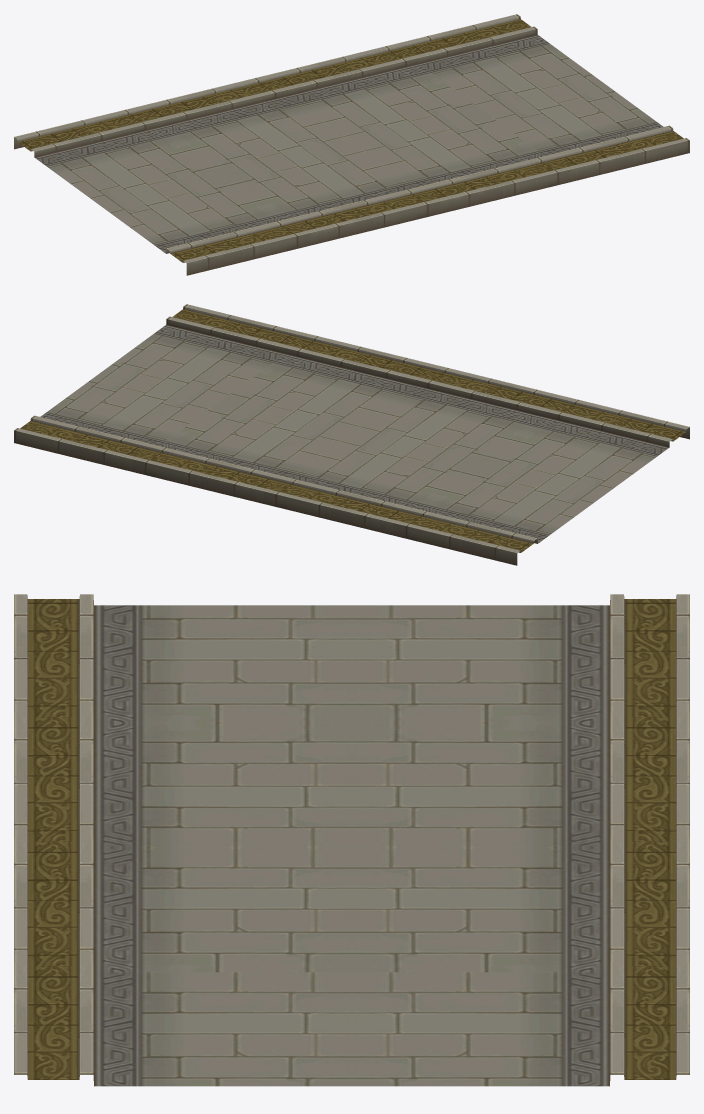
The model's file is Item_3001_wujian002_diban02.FBX.
The picture shows the model from 3 angles, top to bottom: view 1: azimuth 30°, elevation 25°; view 2: azimuth 150°, elevation 25°; view 3: azimuth 270°, elevation 25°; orthographic projection. The views are drawn at different scales.
Visible parts, largest first — view 1: Item_3001_wujian002_diban02; view 2: Item_3001_wujian002_diban02; view 3: Item_3001_wujian002_diban02.
Boxes of the visible parts, bbox=[...] form: Item_3001_wujian002_diban02: bbox=[14, 14, 689, 275]; Item_3001_wujian002_diban02: bbox=[14, 304, 689, 565]; Item_3001_wujian002_diban02: bbox=[14, 594, 689, 1086].
Bounding box in the file's own units: 951 × 22.69 × 565.
